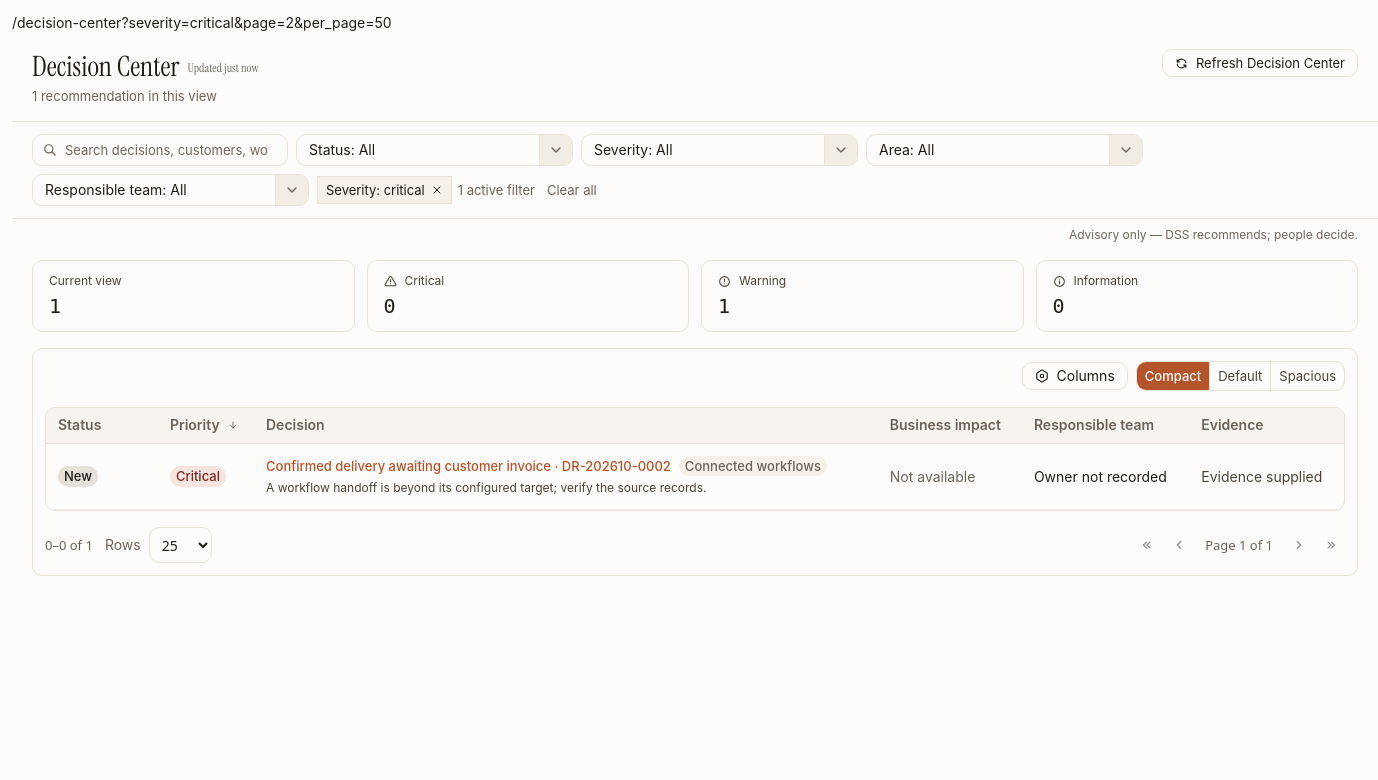
Test: Decision Center › opens the recommendation page and keeps list filters in its return URL
Step 1. Click the link "Confirmed delivery awaiting customer invoice" → (468, 466), box [266,457,671,475]
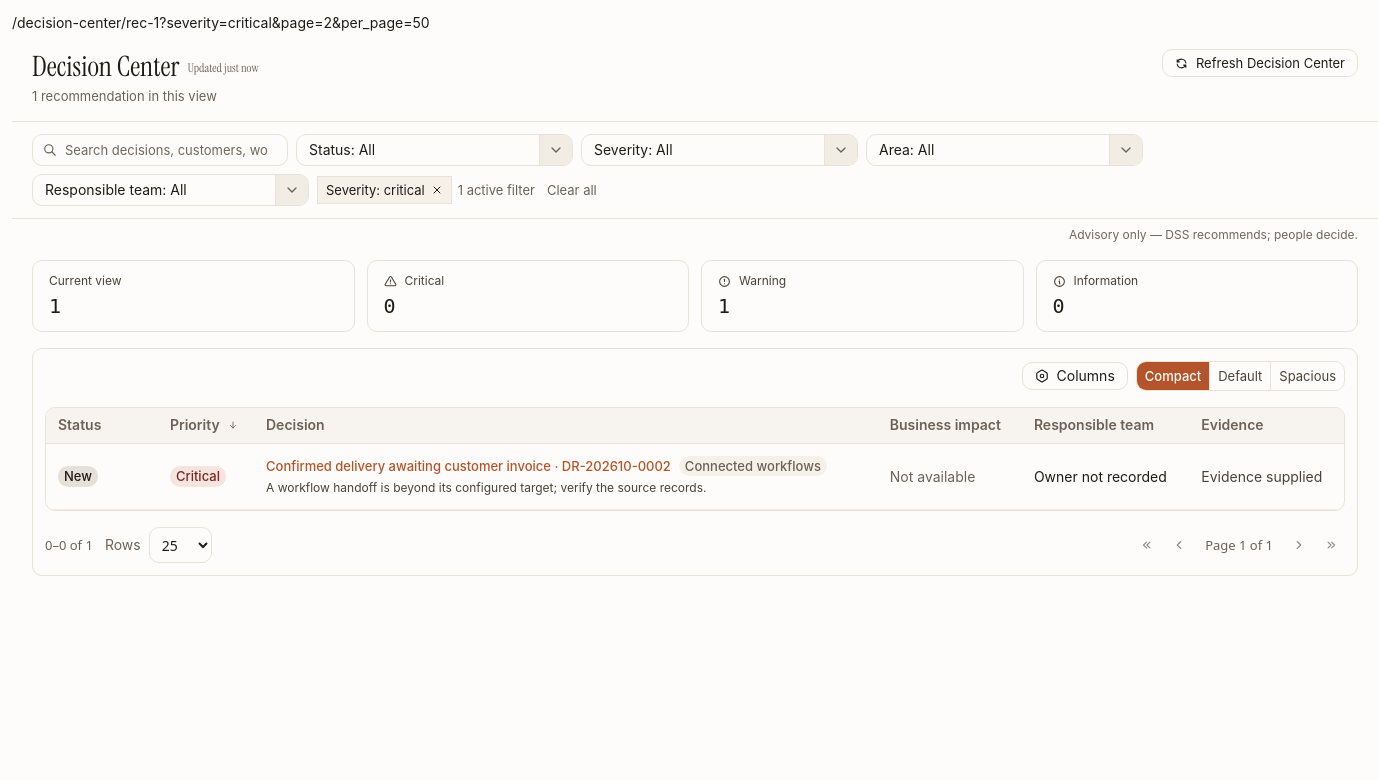
Check: the text with test id "location" reads "/decision-center/rec-1?severity=critical&page=2&per_page=50", box [12,14,430,31]
